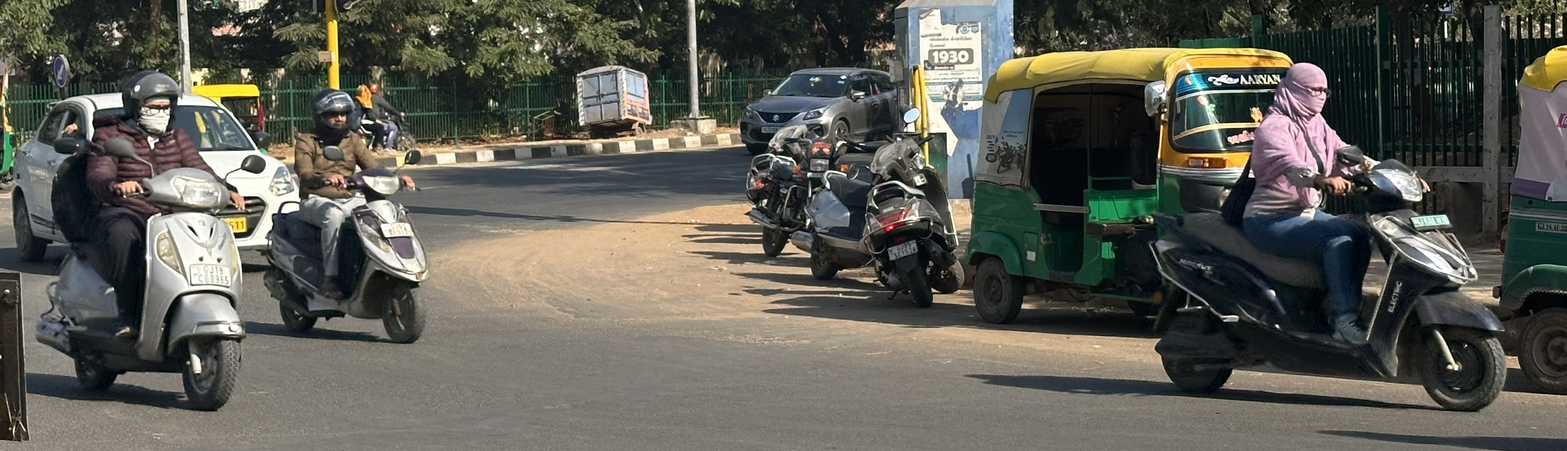BikeWithRider: (1145, 51, 1519, 419), (42, 64, 257, 412), (256, 83, 440, 364)
Helmet: (115, 68, 185, 138), (312, 90, 358, 137)
NoHelmet: (1281, 59, 1338, 119)
